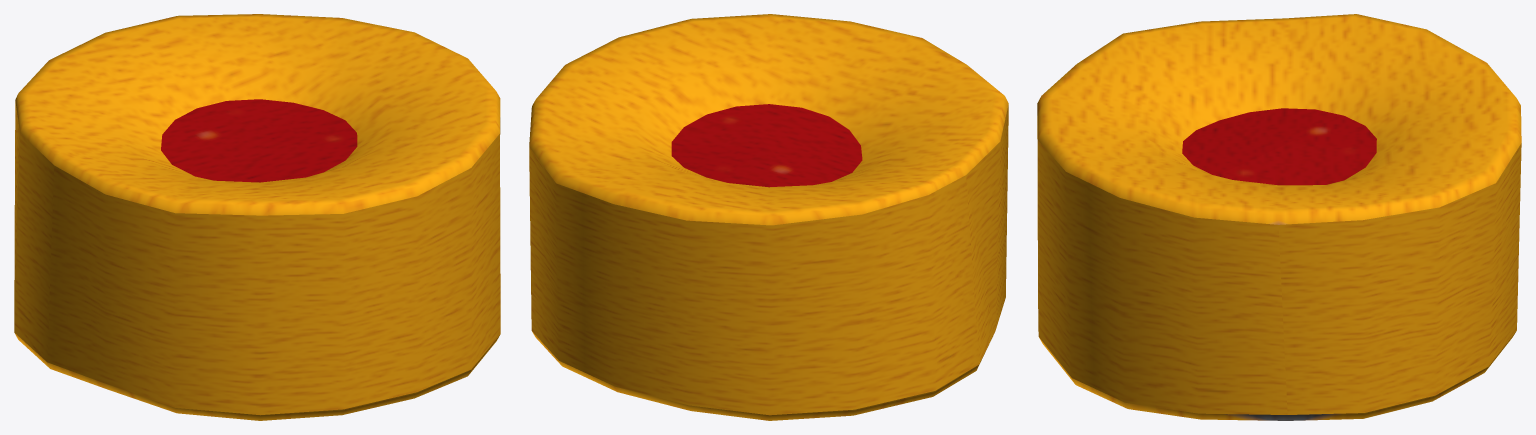
3 views of the same model, side by side, from view 1: azimuth 30°, elevation 25°; view 2: azimuth 150°, elevation 25°; view 3: azimuth 270°, elevation 25° (orthographic).
Parts seen in each view (by area): view 1: YellowRound; view 2: YellowRound; view 3: YellowRound.
Boxes of the visible parts, x1=… form: YellowRound: x1=14, y1=14, x2=500, y2=420; YellowRound: x1=529, y1=14, x2=1008, y2=420; YellowRound: x1=1037, y1=14, x2=1521, y2=420.
Bounding box in the file's own units: 177 × 89.35 × 175.
